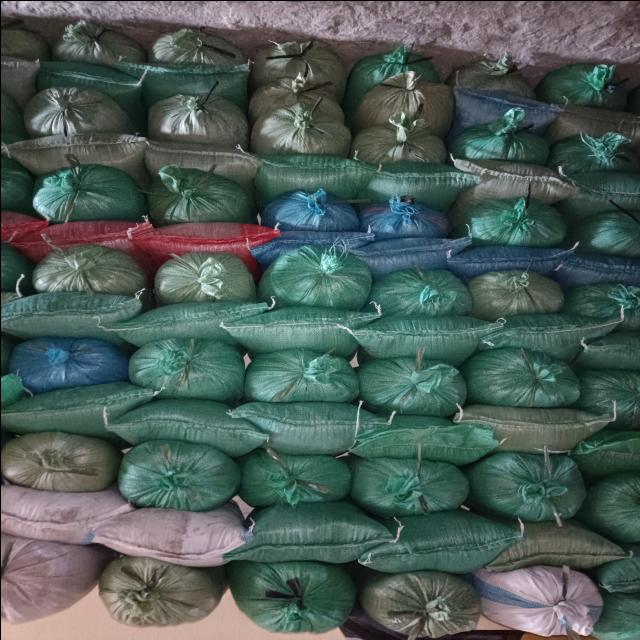Bistay sand: (463, 353, 583, 411), (14, 337, 132, 390), (138, 342, 243, 400), (269, 251, 374, 307), (116, 511, 233, 560), (261, 513, 378, 562), (392, 523, 509, 572), (1, 388, 137, 430), (113, 405, 249, 447), (242, 408, 378, 450), (356, 420, 492, 462), (467, 408, 603, 450), (353, 464, 465, 513), (121, 456, 233, 505), (8, 441, 120, 490), (242, 458, 353, 507), (1, 297, 132, 337), (128, 299, 259, 339), (231, 307, 362, 347), (359, 312, 490, 352), (492, 315, 623, 355), (480, 572, 596, 616), (374, 573, 490, 617), (238, 573, 354, 617), (100, 569, 216, 613), (359, 358, 465, 406), (251, 360, 357, 408), (507, 530, 624, 572), (33, 169, 133, 218), (475, 198, 575, 247), (148, 174, 248, 222), (269, 190, 369, 238), (350, 192, 450, 240), (543, 61, 640, 110), (446, 59, 544, 107), (486, 464, 572, 518), (1, 554, 89, 606), (35, 252, 141, 294), (155, 257, 261, 299), (39, 24, 137, 69), (23, 94, 115, 141), (149, 97, 241, 144), (257, 106, 349, 153), (349, 118, 441, 165), (446, 122, 538, 169), (548, 133, 640, 180), (146, 30, 244, 74), (246, 46, 344, 90), (352, 54, 450, 98), (379, 272, 474, 317), (471, 272, 566, 317), (12, 492, 100, 538), (368, 75, 459, 119), (472, 166, 574, 204), (364, 161, 466, 199), (267, 155, 369, 193), (147, 143, 249, 181), (1, 220, 137, 247), (14, 139, 139, 166), (571, 278, 640, 324), (450, 248, 568, 273), (361, 240, 479, 265), (581, 206, 640, 256), (580, 371, 640, 414), (150, 227, 267, 249), (596, 478, 640, 535), (448, 100, 544, 126), (268, 233, 370, 257), (546, 109, 640, 135), (534, 108, 640, 131), (130, 69, 244, 90), (31, 68, 142, 89), (568, 252, 640, 282), (578, 178, 640, 209), (578, 434, 640, 465), (1, 22, 41, 64), (259, 76, 340, 96)
